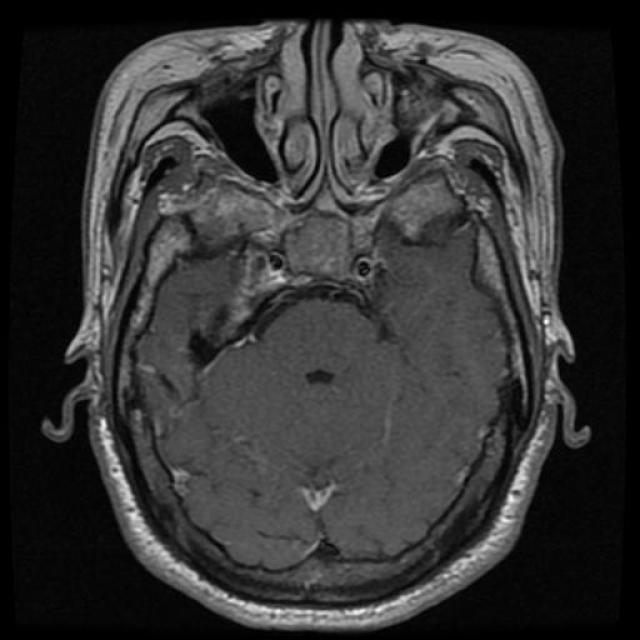pituitary: (249, 212, 397, 304)
